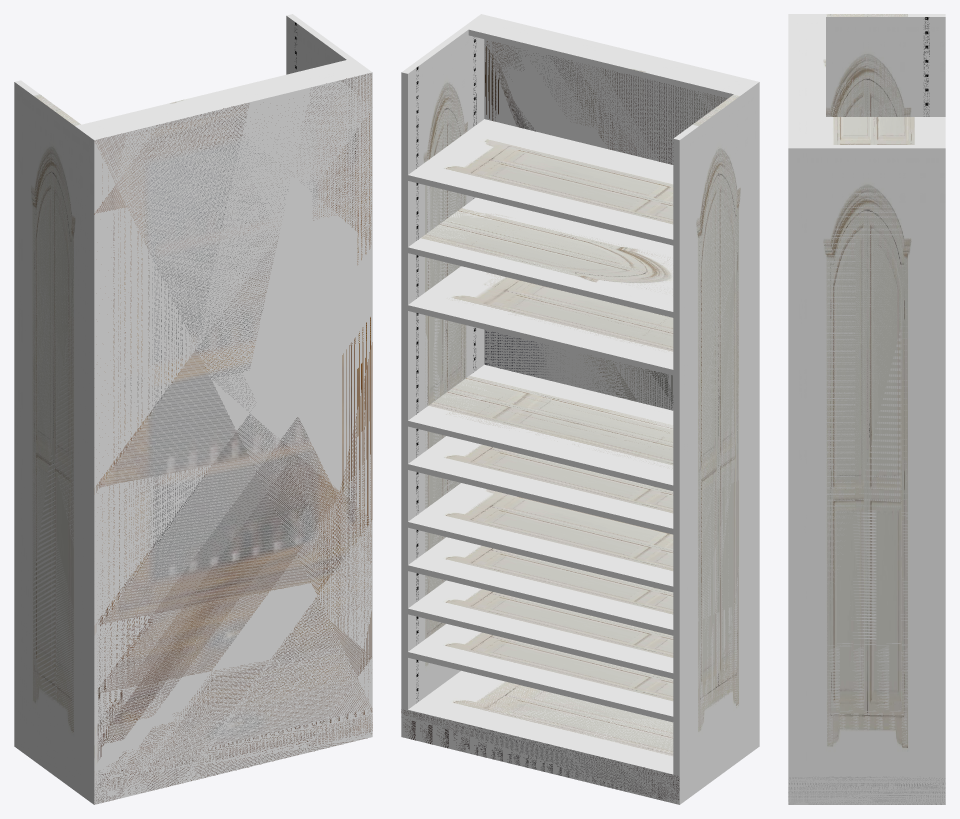
The picture shows the model from 3 angles, left to right: view 1: azimuth 30°, elevation 25°; view 2: azimuth 150°, elevation 25°; view 3: azimuth 270°, elevation 25°; orthographic projection.
Visible parts, largest first — view 1: mesh19_mesh19-geometry; view 2: mesh19_mesh19-geometry, mesh9_mesh9-geometry, mesh5_mesh5-geometry, mesh7_mesh7-geometry, mesh11_mesh11-geometry, mesh3_mesh3-geometry, mesh13_mesh13-geometry, mesh15_mesh15-geometry, mesh17_mesh17-geometry, mesh1_mesh1-geometry; view 3: mesh19_mesh19-geometry, mesh9_mesh9-geometry.
Boxes of the visible parts, left/top/right/bottom form: mesh19_mesh19-geometry: left=14, top=14, right=372, bottom=804; mesh19_mesh19-geometry: left=401, top=14, right=759, bottom=804; mesh9_mesh9-geometry: left=408, top=119, right=673, bottom=245; mesh5_mesh5-geometry: left=408, top=364, right=673, bottom=490; mesh7_mesh7-geometry: left=408, top=197, right=673, bottom=317; mesh11_mesh11-geometry: left=408, top=266, right=673, bottom=375; mesh3_mesh3-geometry: left=408, top=483, right=673, bottom=592; mesh13_mesh13-geometry: left=408, top=537, right=673, bottom=635; mesh15_mesh15-geometry: left=408, top=436, right=673, bottom=534; mesh17_mesh17-geometry: left=408, top=580, right=673, bottom=678; mesh1_mesh1-geometry: left=408, top=624, right=673, bottom=722; mesh19_mesh19-geometry: left=788, top=14, right=945, bottom=804; mesh9_mesh9-geometry: left=826, top=117, right=945, bottom=144.
Size of the model in its own units: 0.3936 by 0.8983 by 0.1953.
